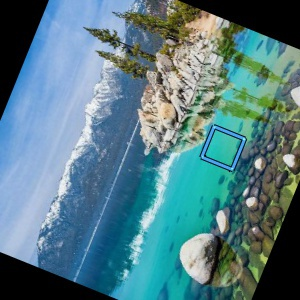square: (199, 123, 249, 173)
